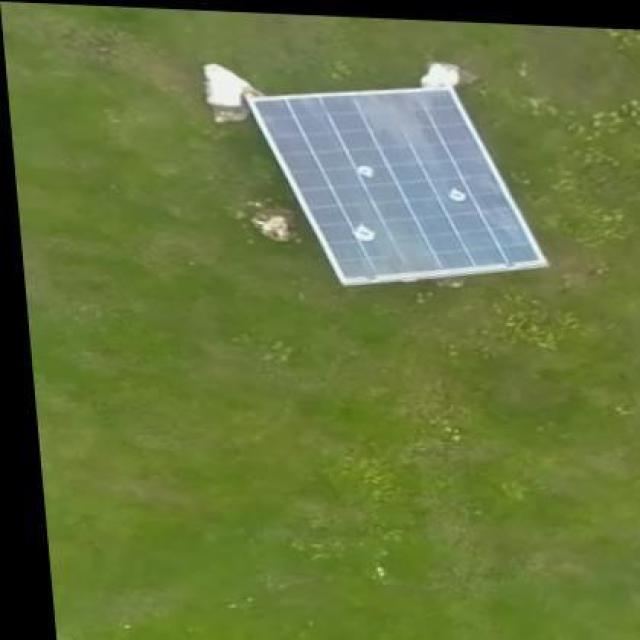soiled: (252, 72, 560, 294)
